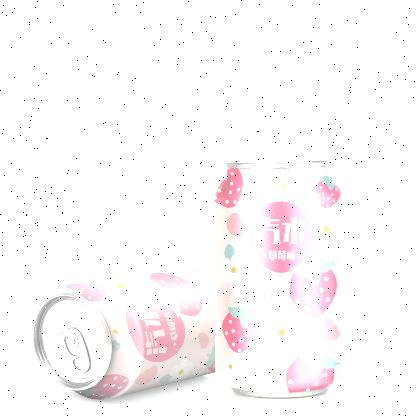Can: (214, 160, 344, 397), (32, 266, 214, 399)
